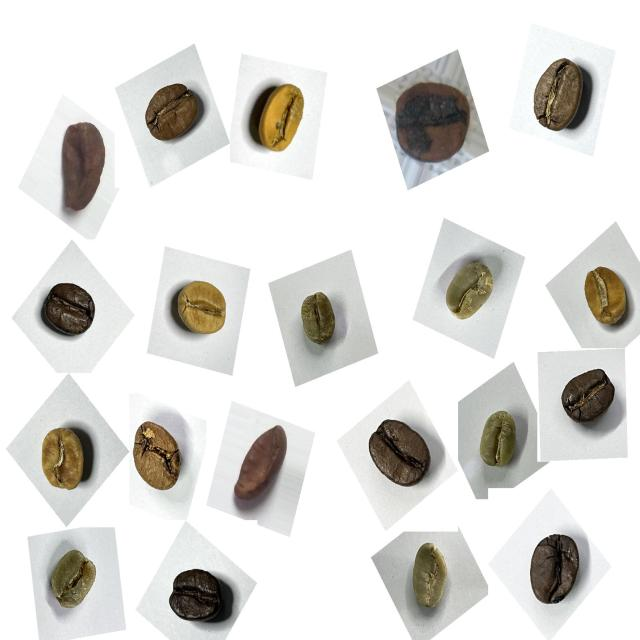bad: (385, 64, 479, 176), (50, 112, 118, 224), (227, 420, 299, 520)
dark: (361, 408, 440, 500), (519, 524, 591, 618), (161, 558, 237, 638), (553, 357, 624, 436), (38, 274, 106, 352)
green: (432, 250, 505, 336), (41, 542, 108, 623), (399, 534, 459, 622), (289, 281, 348, 358), (469, 400, 526, 479)
light: (242, 68, 319, 165), (166, 266, 240, 348), (31, 414, 99, 501), (573, 256, 640, 338)
medium: (520, 49, 600, 144), (122, 409, 192, 502), (137, 74, 210, 156)
